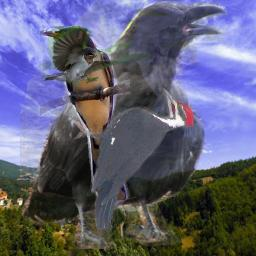Crow: (20, 1, 227, 249)
Cuckoo: (40, 26, 130, 206)
Swallow: (42, 26, 150, 83)
Woodpecker: (70, 88, 197, 235)
